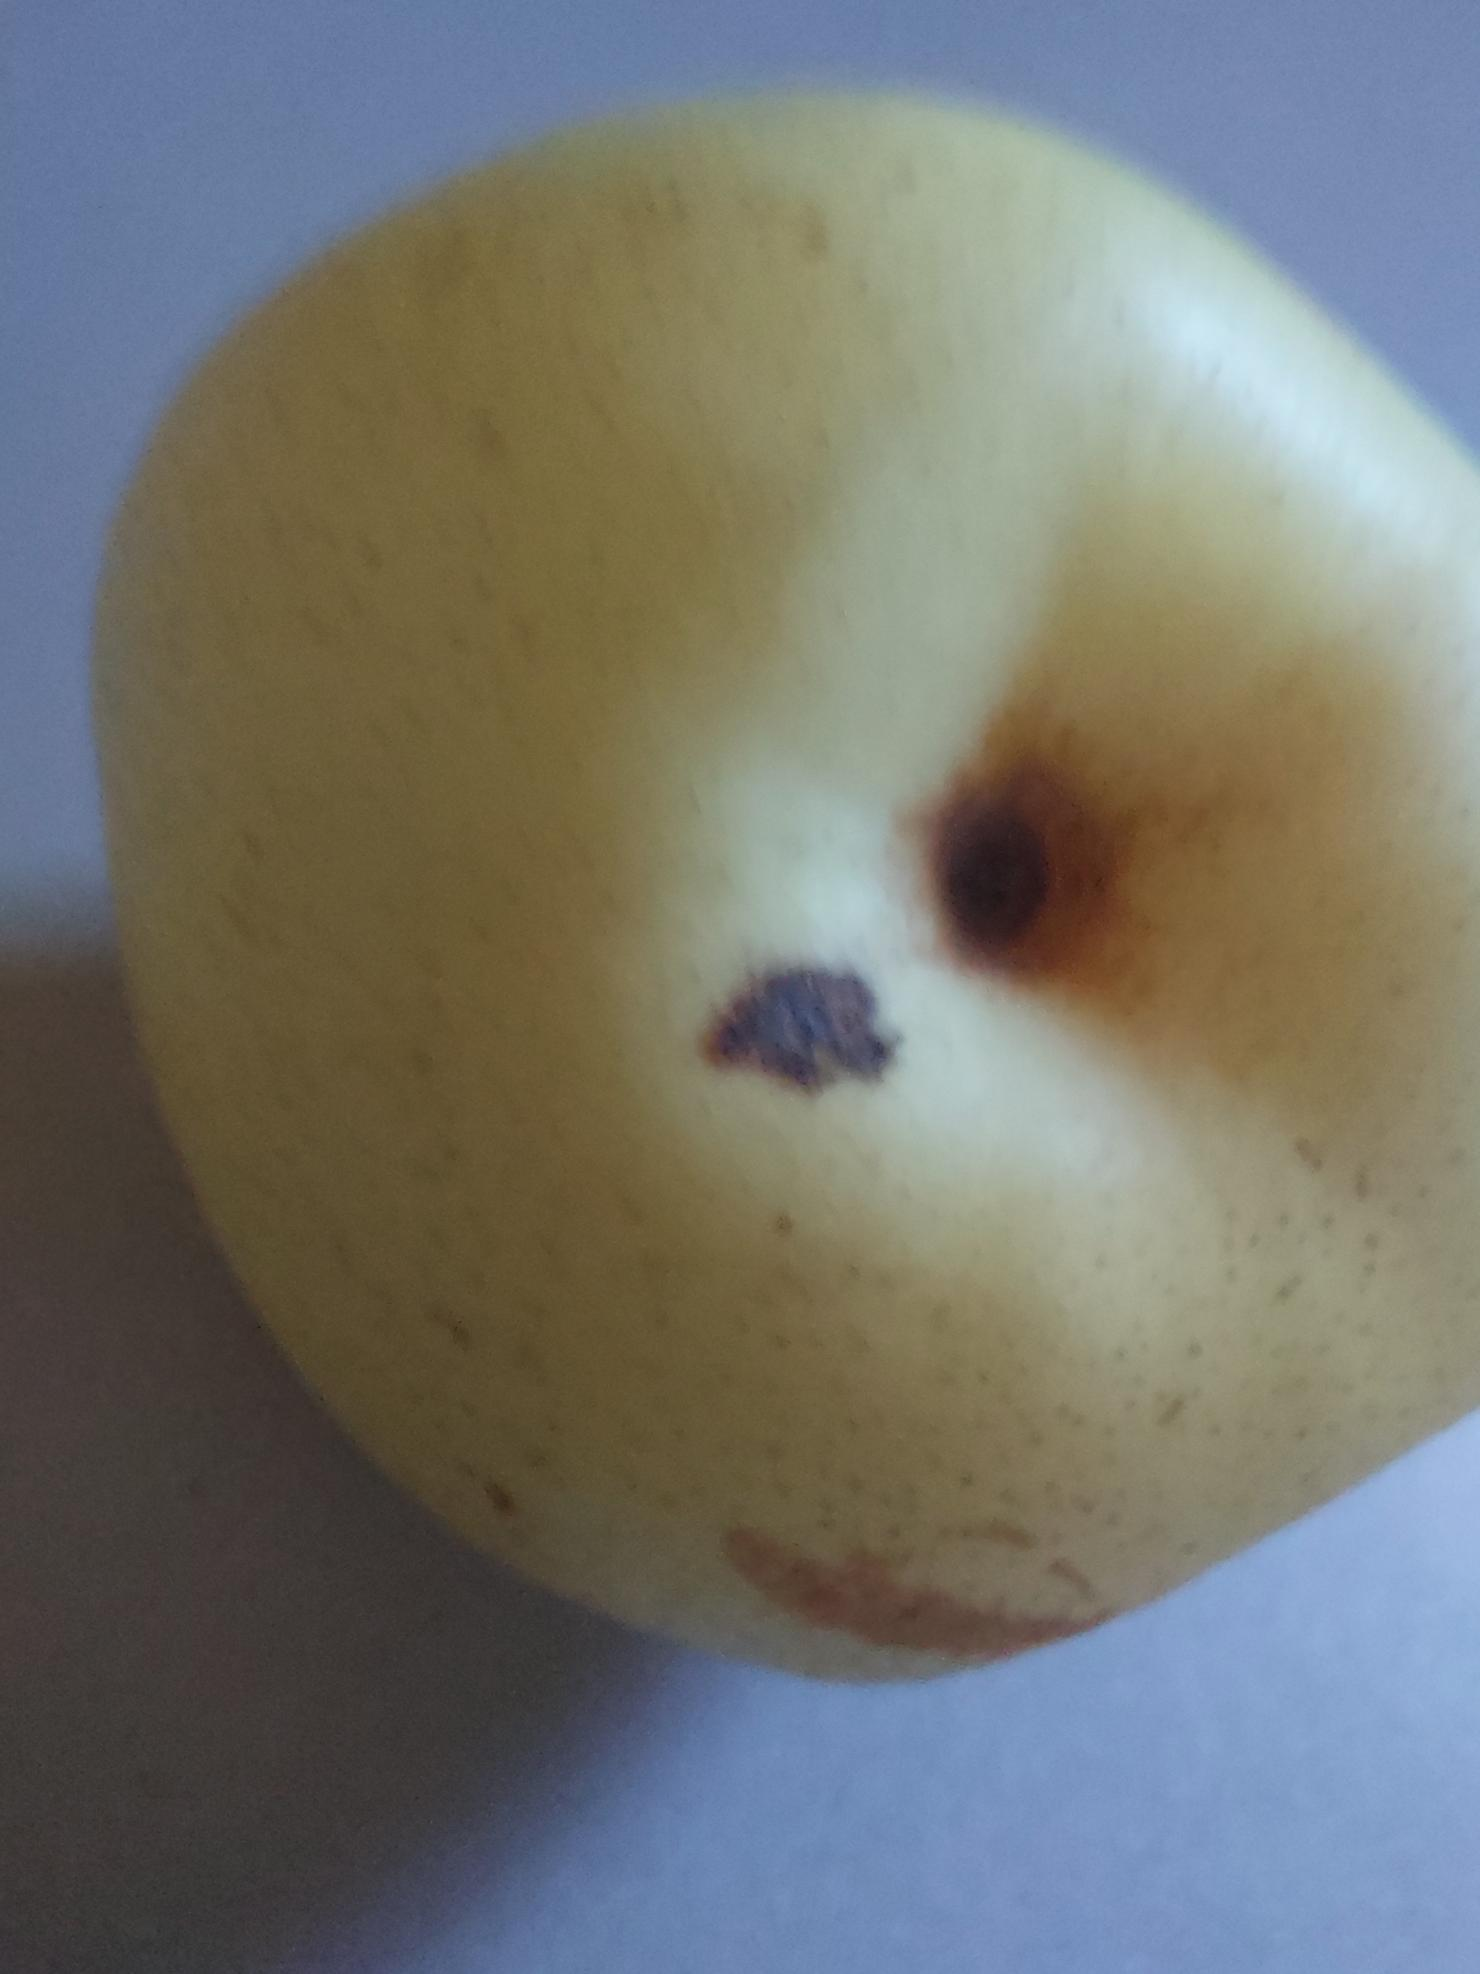Good Pear: (67, 78, 1480, 1727)
